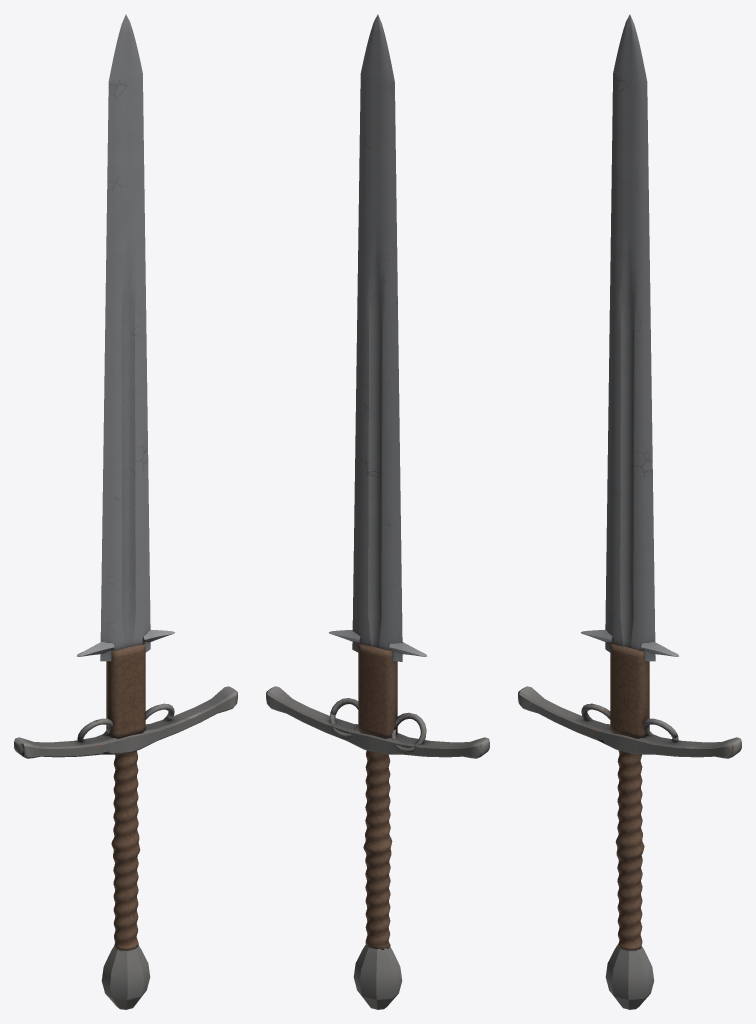
The model's file is greatsword.glb.
The picture shows the model from 3 angles, left to right: view 1: azimuth 30°, elevation 25°; view 2: azimuth 150°, elevation 25°; view 3: azimuth 330°, elevation 25°; orthographic projection.
Parts seen in each view (by area): view 1: greatsword; view 2: greatsword; view 3: greatsword.
Boxes of the visible parts, box(x1,y1,x2,y2) form: greatsword: box(14, 14, 237, 1009); greatsword: box(266, 14, 489, 1009); greatsword: box(518, 14, 741, 1009).
Size of the model in its own units: 0.86 by 3.71 by 0.1351.
Materials: 1 (1 with a texture image).
